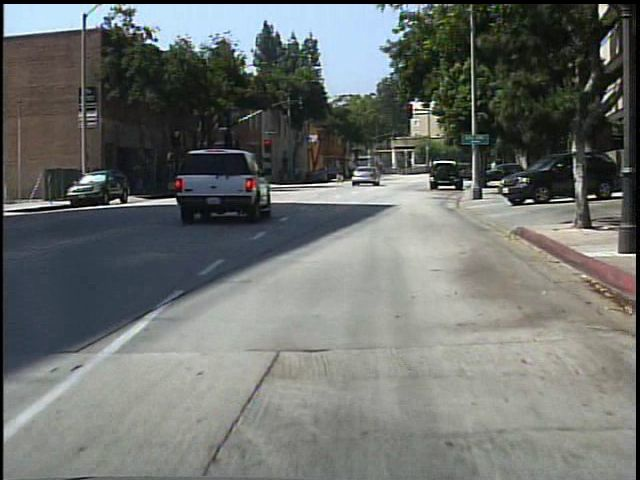person: (487, 158, 501, 184), (335, 165, 348, 185)
